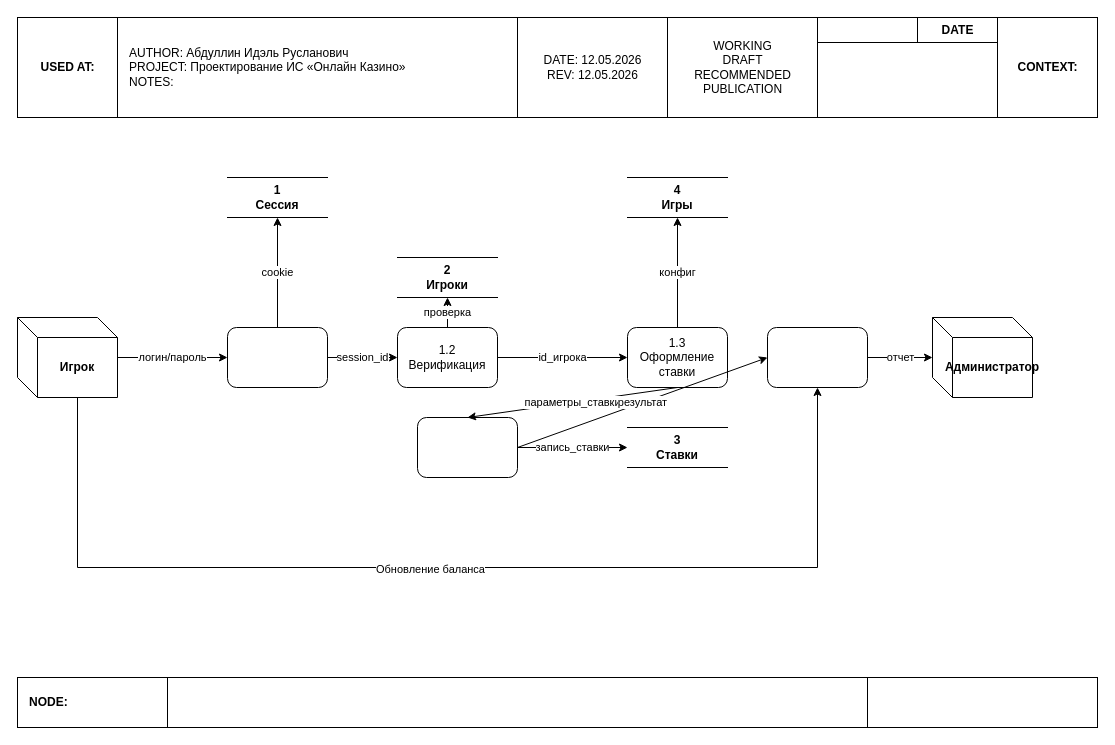
The diagram is 1115 pixels wide and 745 high, and some of its shapes have lost their labels. The centre of each missing label's shape, as x and y in pixels:
"1.1 Авторизация" belongs at [277,357].
"1.4 Фиксация ставки" belongs at [467,447].
"1.5 Расчет результата" belongs at [817,357].
"NUMBER:" belongs at [982,702].
"READER" belongs at [867,29].
"TITLE: Процесс игры и расчета выигрыша в системе казино" belongs at [517,702].
